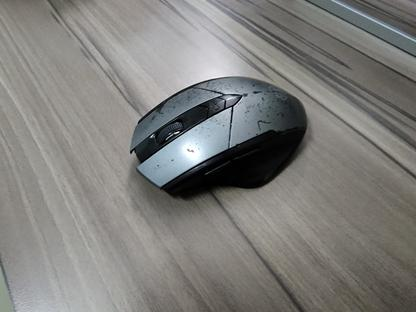mouse: (128, 75, 307, 199)
